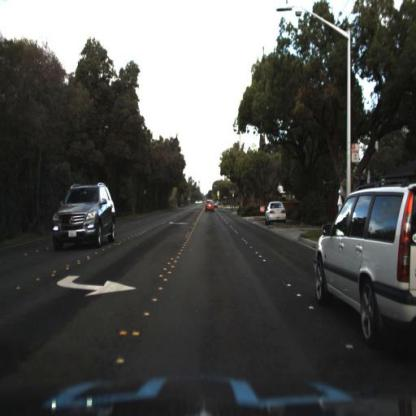car: (310, 164, 416, 356), (52, 181, 118, 253), (264, 196, 291, 228), (203, 194, 217, 215)
